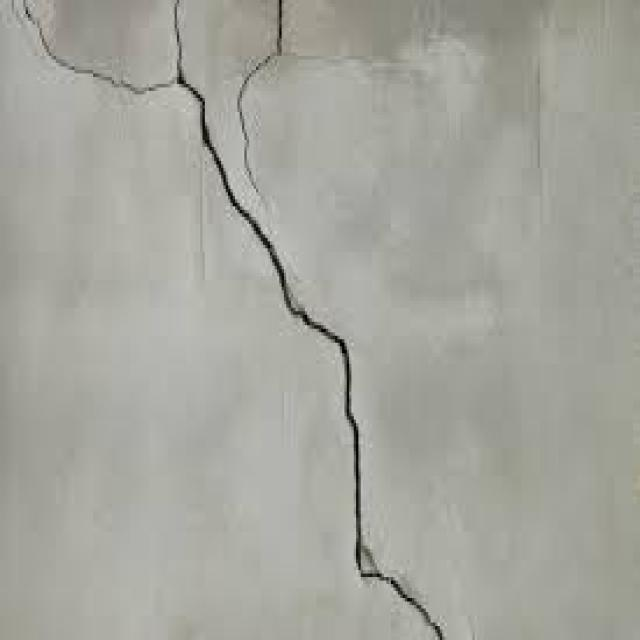crack: (178, 61, 444, 639)
